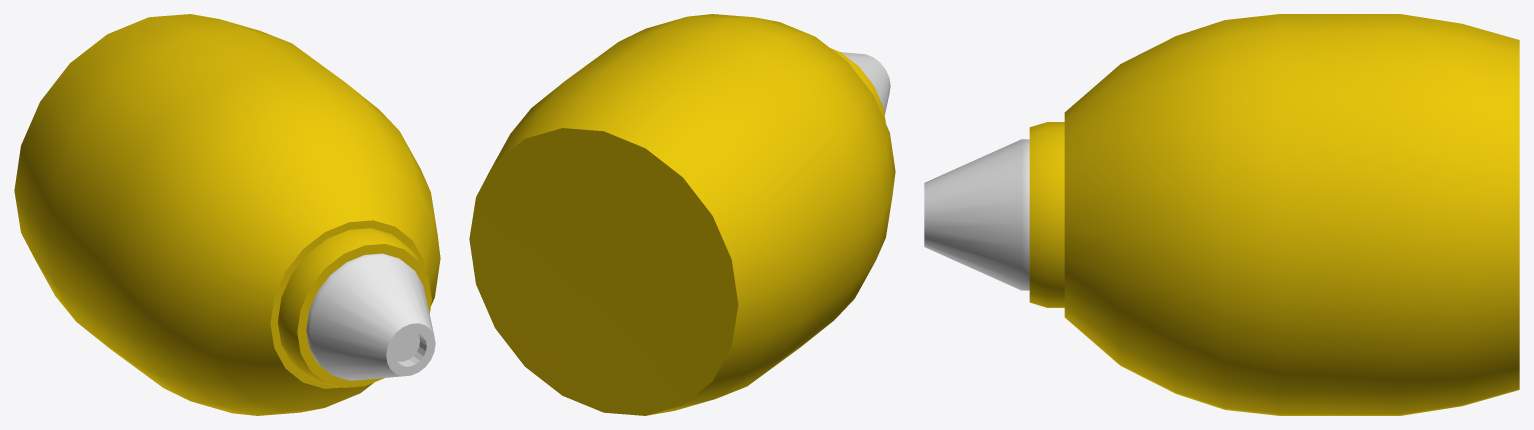
Rendered from Gun_05.fbx.
The picture shows the model from 3 angles, left to right: view 1: azimuth 30°, elevation 25°; view 2: azimuth 150°, elevation 25°; view 3: azimuth 270°, elevation 25°; orthographic projection. The views are drawn at different scales.
Visible parts, largest first — view 1: pCylinder38; view 2: pCylinder38; view 3: pCylinder38.
Part boxes in pixels (<box>): pCylinder38: <box>14,14,440,415</box>; pCylinder38: <box>469,14,895,415</box>; pCylinder38: <box>924,14,1519,415</box>.
Size of the model in its own units: 36.31 by 36.31 by 53.34.
